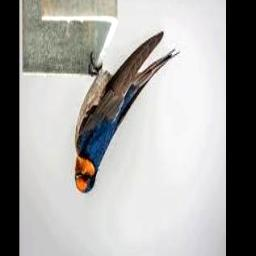Swallow: (75, 31, 180, 193)
